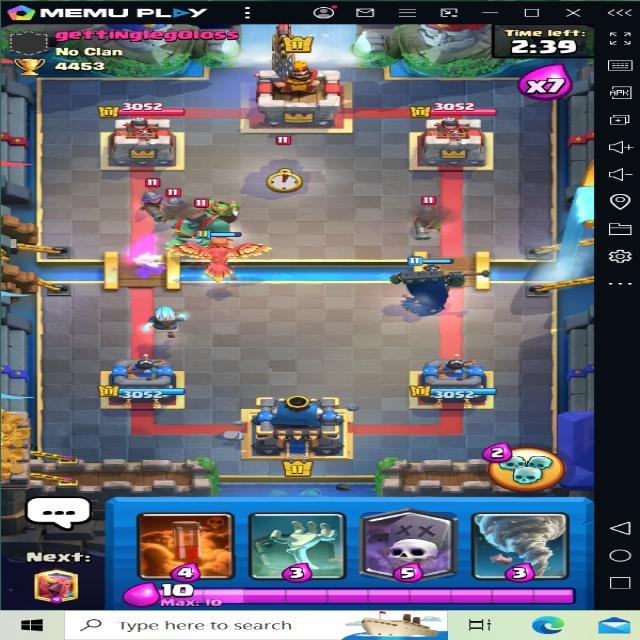Goblingiant: (168, 192, 248, 250)
Musketeer: (407, 195, 461, 238), (138, 182, 196, 220), (156, 187, 203, 228)
